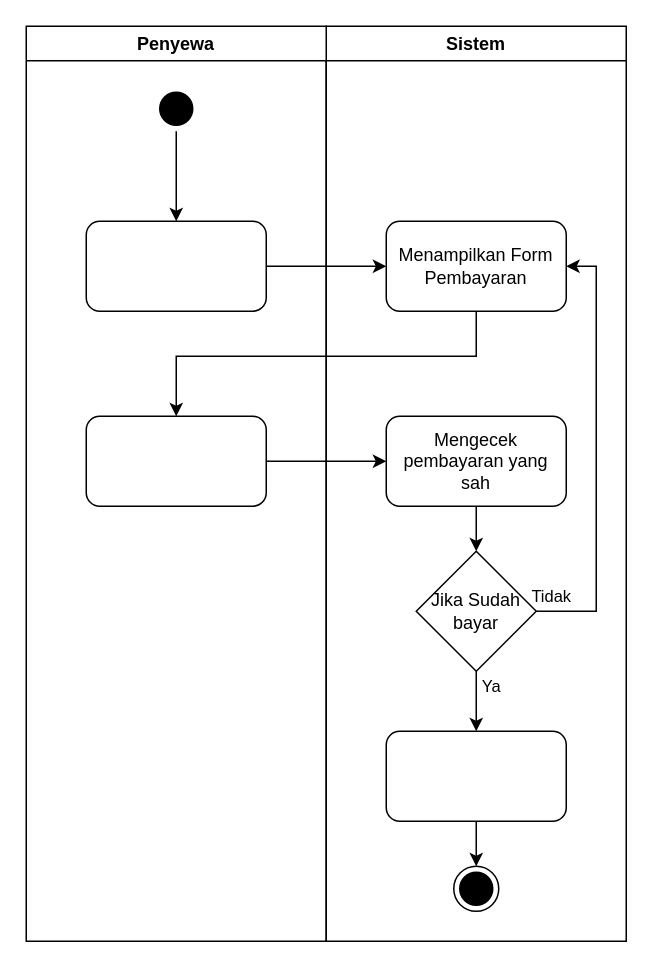
Image size: 653x968. Some labels were removed from this diagram. The shapes that lost their labels are listed below. From the top down, each one's box as (x1, y1, x2, y2) in pixels, then its label:
(85, 220, 266, 311): Masuk ke form pembayaran
(85, 415, 266, 506): Melakukan input Pembayaran yang tertera
(385, 730, 566, 821): Menampilkan menu pembayaran "Berhasil
